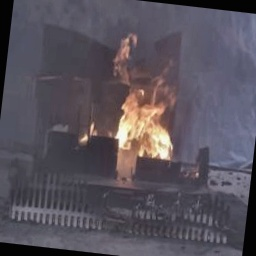fire: (102, 56, 188, 181)
